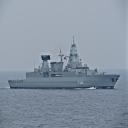Fragata: (9, 37, 123, 91)
